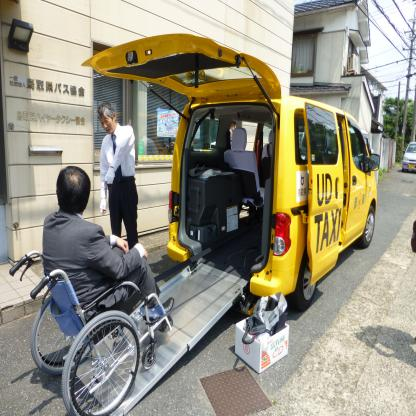wheelchair: (19, 168, 176, 416)
